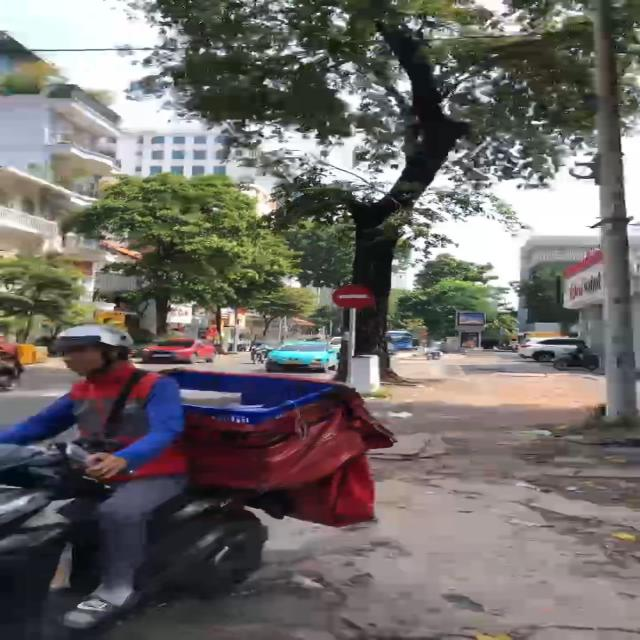Bien bao cam di nguoc chieu: (332, 281, 378, 310)
